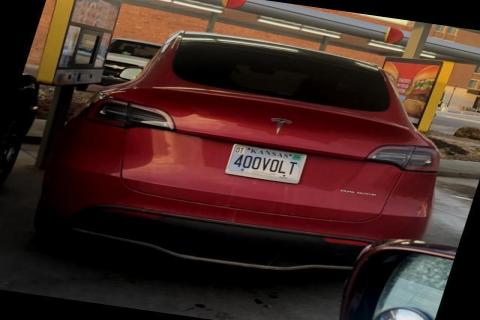LicensePlate: (222, 142, 307, 184)
